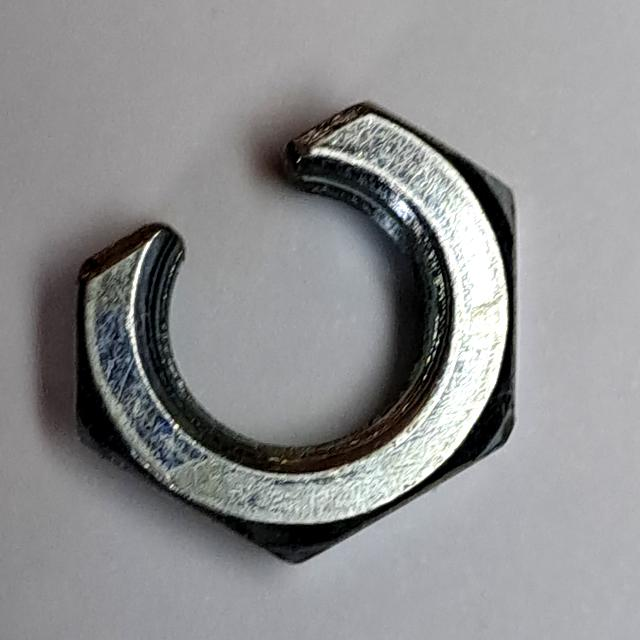Fracture: (64, 87, 541, 579)
